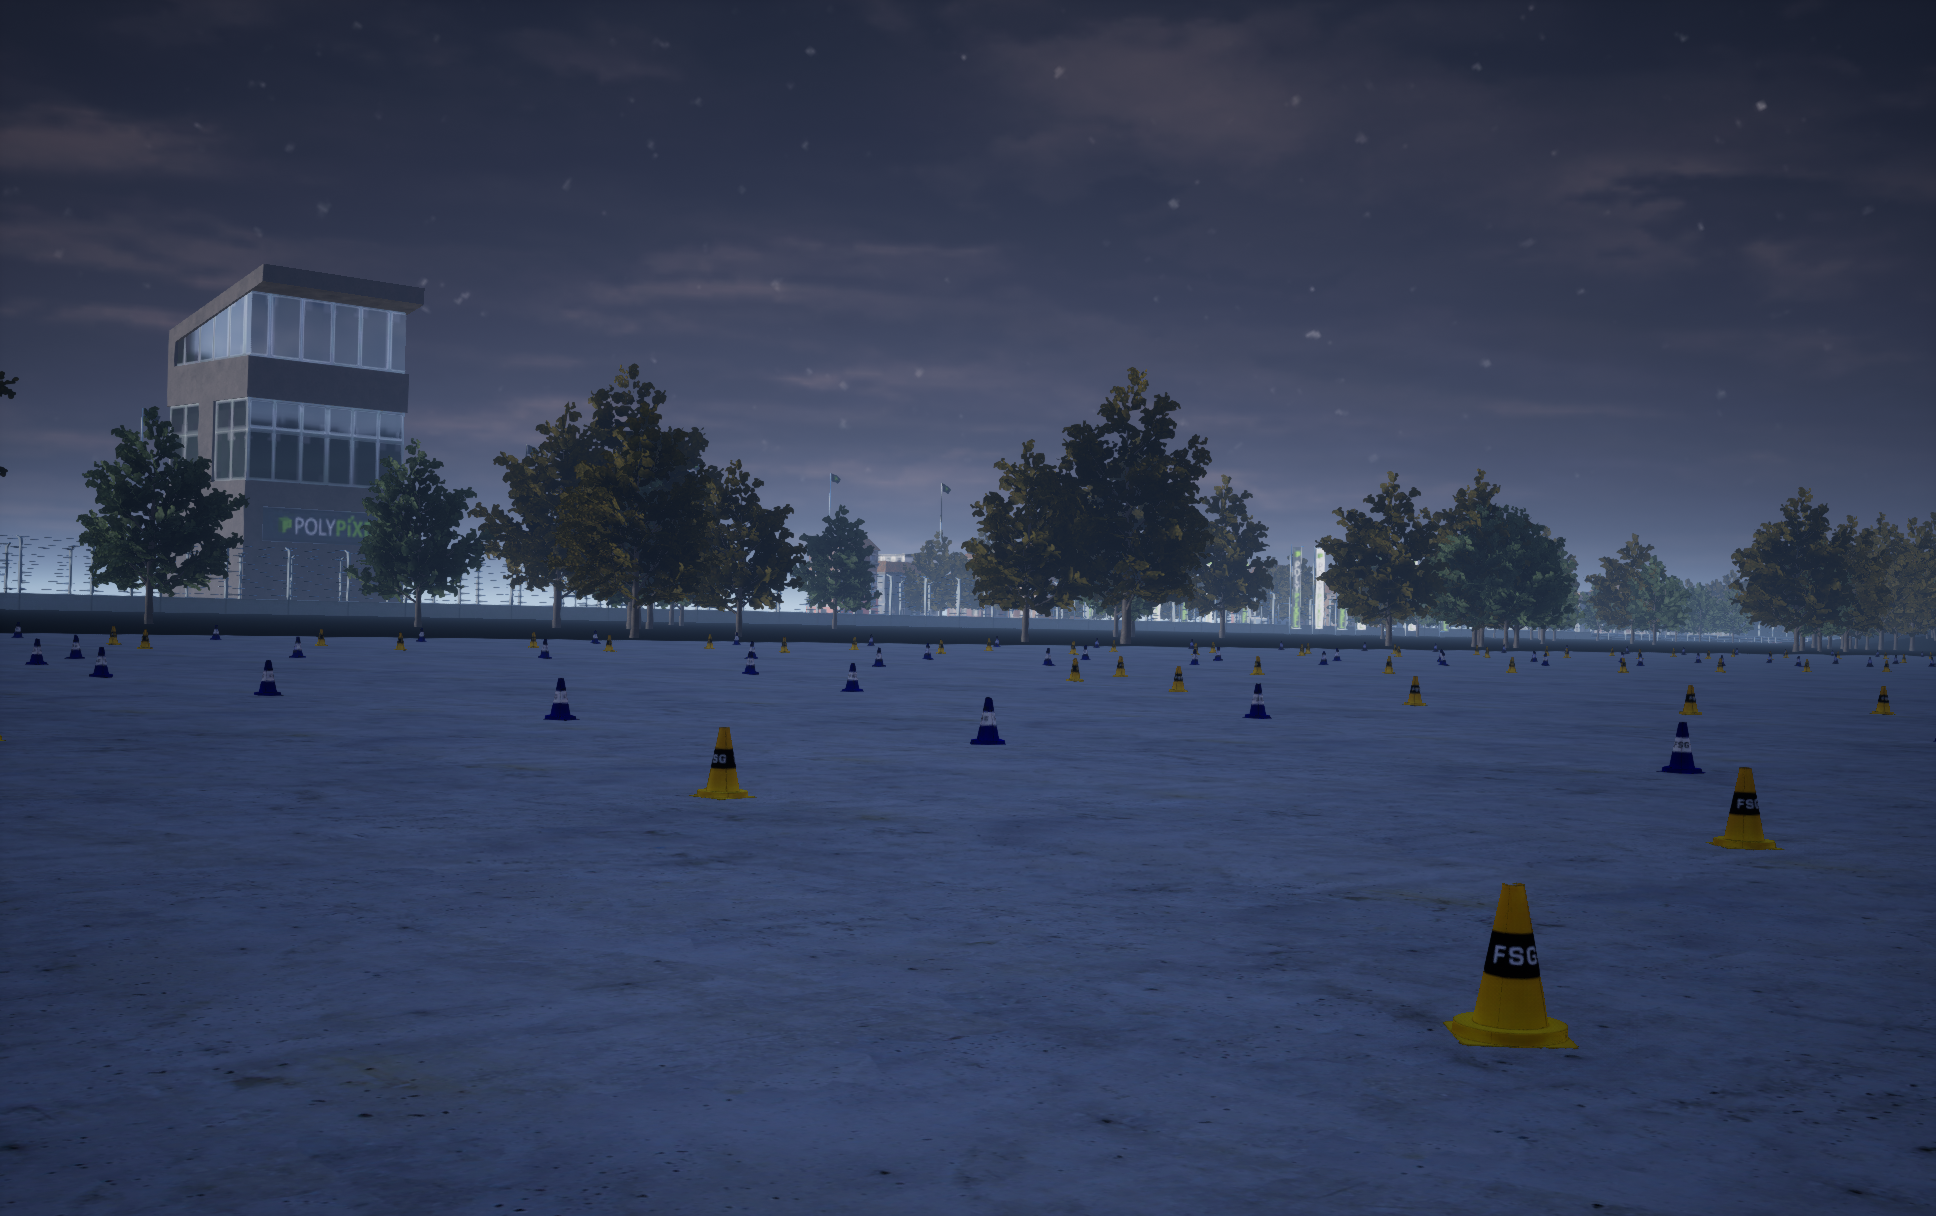blue: (1443, 883, 1577, 1049), (1705, 766, 1783, 849), (689, 727, 756, 799), (1869, 686, 1895, 714), (1402, 677, 1427, 705), (1680, 685, 1701, 714), (1168, 665, 1187, 691), (1066, 658, 1083, 681), (1112, 656, 1128, 677), (137, 629, 153, 649), (1250, 656, 1264, 674)
yellow: (1656, 721, 1705, 773), (969, 698, 1004, 744), (544, 678, 579, 720), (254, 660, 283, 695), (1243, 684, 1271, 719), (90, 647, 112, 677), (841, 663, 863, 691), (25, 637, 48, 664), (64, 635, 84, 658), (742, 651, 758, 674), (289, 637, 305, 657), (871, 647, 885, 665), (538, 639, 551, 658)
